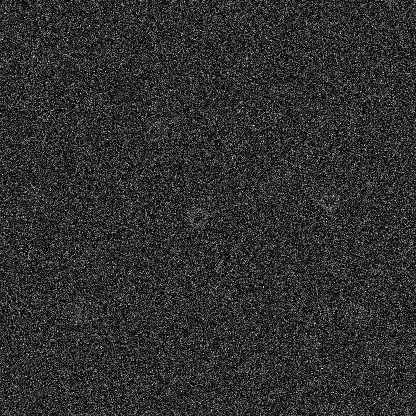Ring: (310, 100, 334, 124), (317, 188, 341, 212), (144, 118, 168, 142), (185, 205, 209, 229), (341, 300, 365, 324), (25, 190, 49, 214)
Spot: (65, 253, 81, 269), (280, 170, 296, 186), (234, 9, 250, 25), (69, 307, 85, 323)
